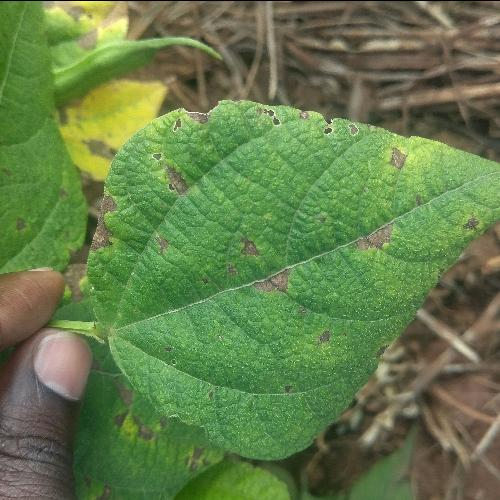hawar: (216, 214, 307, 313), (152, 100, 216, 206), (272, 320, 352, 401), (80, 174, 140, 259), (250, 104, 364, 140), (346, 216, 409, 262), (380, 130, 407, 190), (449, 208, 485, 239)
